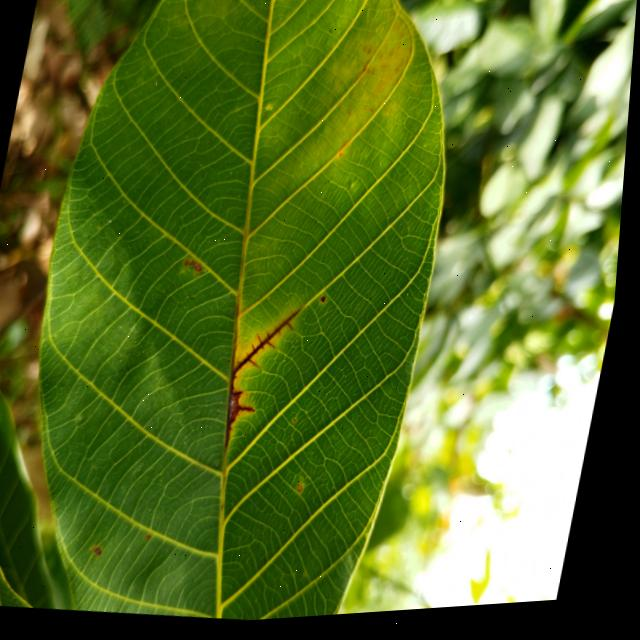Colletotrichum: (325, 299, 331, 306)
Corynespora: (237, 303, 309, 387), (223, 377, 268, 457)
